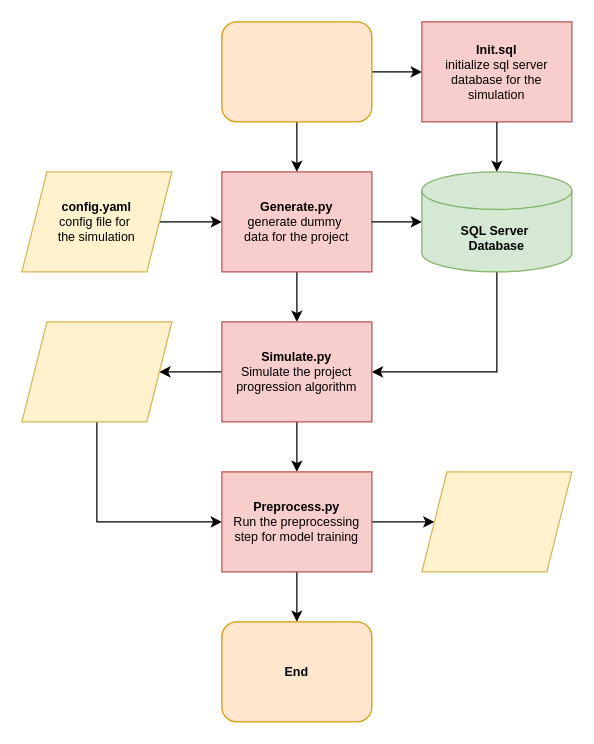
This 594x744 diagram has some shape labels left out. The shapes that lost their labels are listed below. From the top down, each one's centre as x and y in pixels, then its label:
(296,71): Start
(96,371): project.csv task.csv project_report.csv task_report.csv
(496,521): task_train.csv task_data.csv project_train.csv project_data.csv
